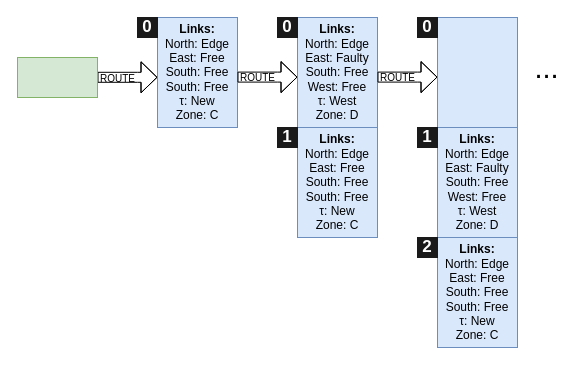
Image size: 584x365. Some labels were removed from this diagram. The centre of each missing label's shape, as x and y in pixels:
Links: North: Free East: Free South: Faulty West: Free τ: West Zone: D: pixel 477 72
New packet Zone = C: pixel 57 77
